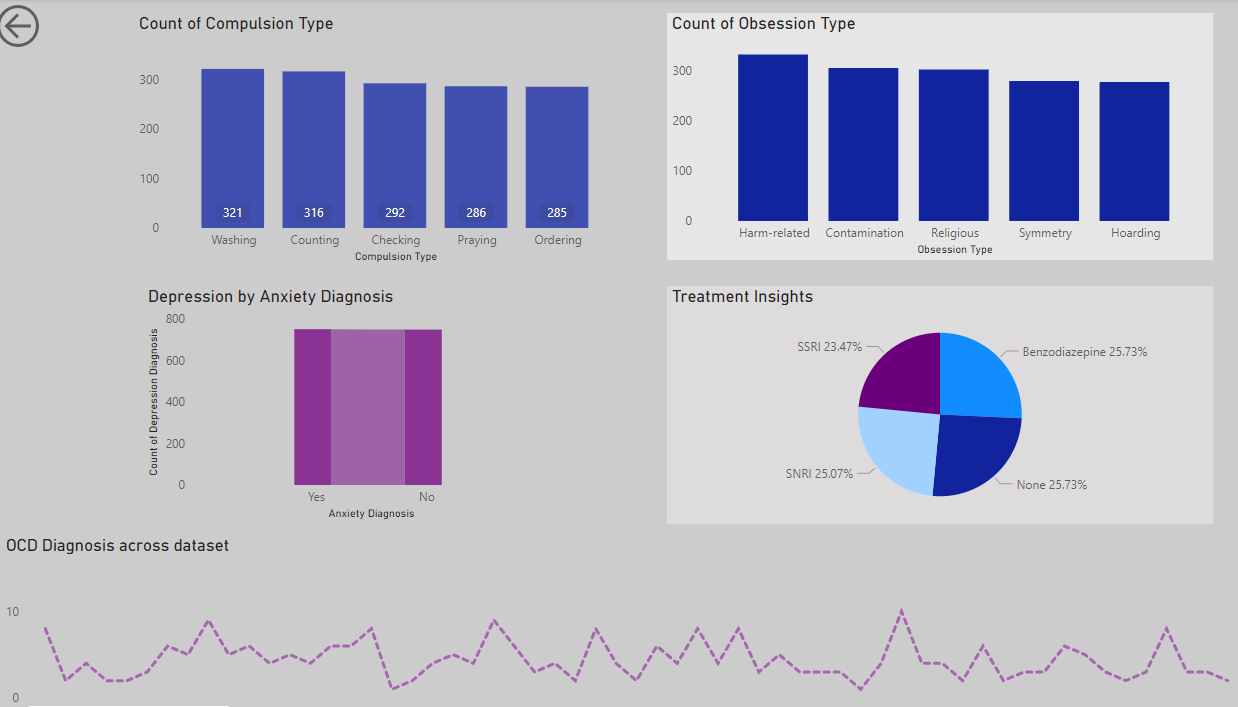

What the dashboard file says about the page in this screenshot:
{"tool":"powerbi","page":{"name":"EDA III - V","canvas":[1280,720],"ordinal":1},"visuals":[{"type":"lineChart","title":"OCD Diagnosis across dataset","fields":{"Y":["CountNonNull(ocd_patient_dataset (2).OCD Diagnosis Date)"],"Category":["ocd_patient_dataset (2).OCD Diagnosis Date.Variation.Date Hierarchy.Quarter","ocd_patient_dataset (2).OCD Diagnosis Date.Variation.Date Hierarchy.Month","ocd_patient_dataset (2).OCD Diagnosis Date.Variation.Date Hierarchy.Day"]},"box":[10,535.6,1247,184.9],"z":0},{"type":"pieChart","title":"Treatment Insights","fields":{"Category":["ocd_patient_dataset.Medications"],"Y":["CountNonNull(ocd_patient_dataset.Medications)"]},"box":[675.5,286.8,545.6,237.8],"z":2000},{"type":"clusteredColumnChart","title":"Count of Obsession Type","fields":{"Category":["ocd_patient_dataset (2).Obsession Type"],"Y":["CountNonNull(ocd_patient_dataset (2).Obsession Type)"]},"box":[675.5,14,545.6,246.8],"z":4000},{"type":"clusteredColumnChart","title":"Count of Compulsion Type","fields":{"Category":["ocd_patient_dataset (2).Compulsion Type"],"Y":["CountNonNull(ocd_patient_dataset (2).Compulsion Type)"]},"box":[142.9,14,493.6,253.8],"z":5001},{"type":"actionButton","box":[0,0,107.9,54],"z":5002},{"type":"ribbonChart","title":"Depression by Anxiety Diagnosis","fields":{"Category":["ocd_patient_dataset.Anxiety Diagnosis"],"Y":["CountNonNull(ocd_patient_dataset.Depression Diagnosis)"]},"box":[151.9,286.8,409.7,237.8],"z":5003}]}

Visuals, with their boxes in screenshot pixels (x1, y1, x2, y2), scaled from the page's 1280x720 canvas onto the 1238x707 screenshot:
"OCD Diagnosis across dataset" lineChart: BBox(10, 526, 1216, 706)
"Treatment Insights" pieChart: BBox(653, 282, 1181, 515)
"Count of Obsession Type" clusteredColumnChart: BBox(653, 14, 1181, 256)
"Count of Compulsion Type" clusteredColumnChart: BBox(138, 14, 616, 263)
actionButton: BBox(0, 0, 104, 53)
"Depression by Anxiety Diagnosis" ribbonChart: BBox(147, 282, 543, 515)
